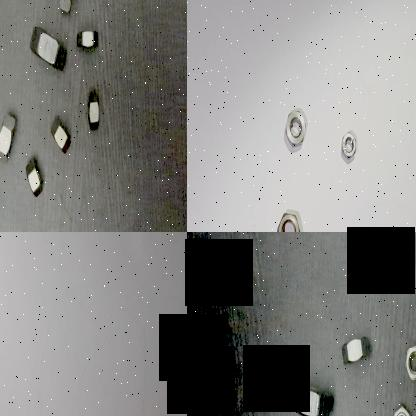NUTS: (29, 20, 71, 80), (291, 375, 335, 416), (24, 148, 48, 214), (338, 326, 374, 370), (49, 103, 73, 159), (73, 23, 107, 59), (0, 110, 20, 168), (283, 107, 307, 150), (84, 92, 104, 136), (339, 129, 361, 162), (400, 339, 416, 383), (275, 207, 301, 232), (57, 0, 81, 21), (391, 401, 413, 416)
